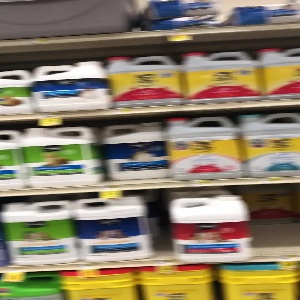void: (250, 183, 300, 258)
